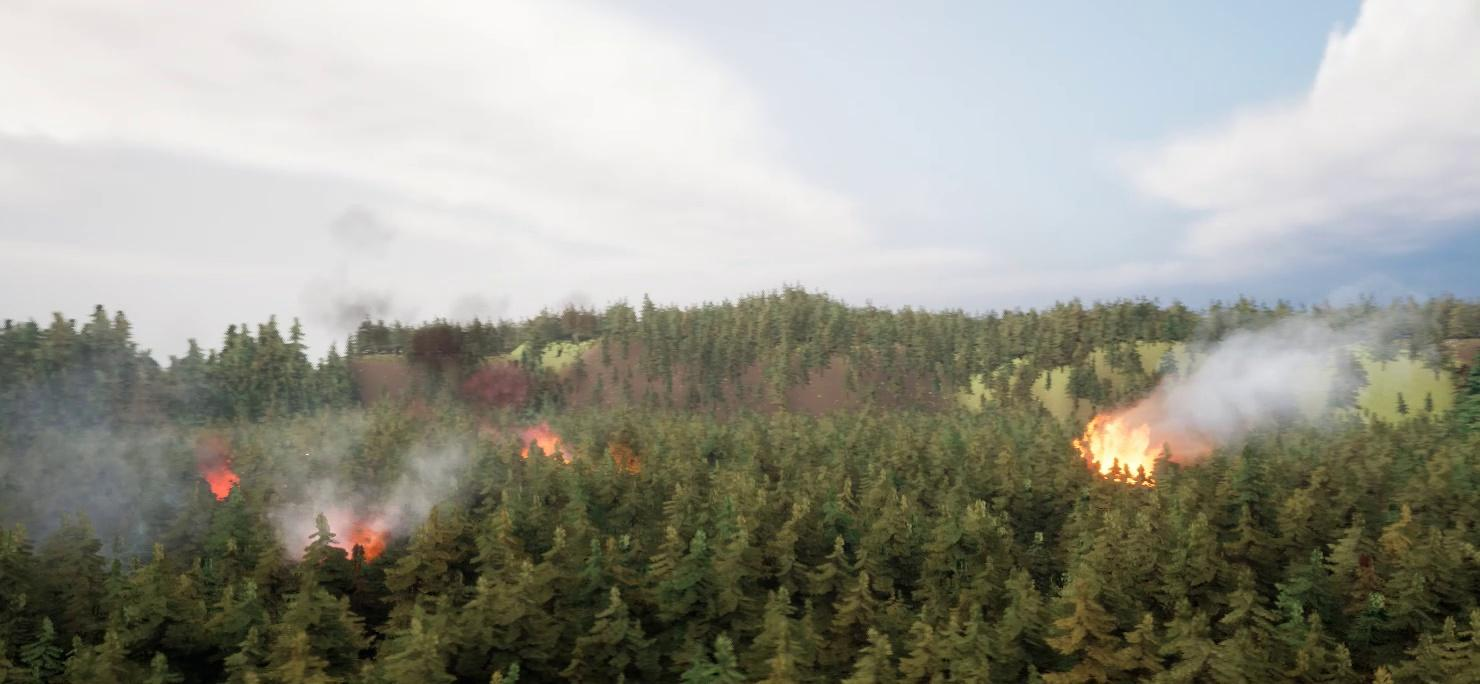fire: (1075, 414, 1170, 478), (334, 514, 395, 565), (516, 417, 580, 465), (206, 463, 254, 506)
smoke: (0, 314, 539, 547), (1144, 301, 1408, 455)
